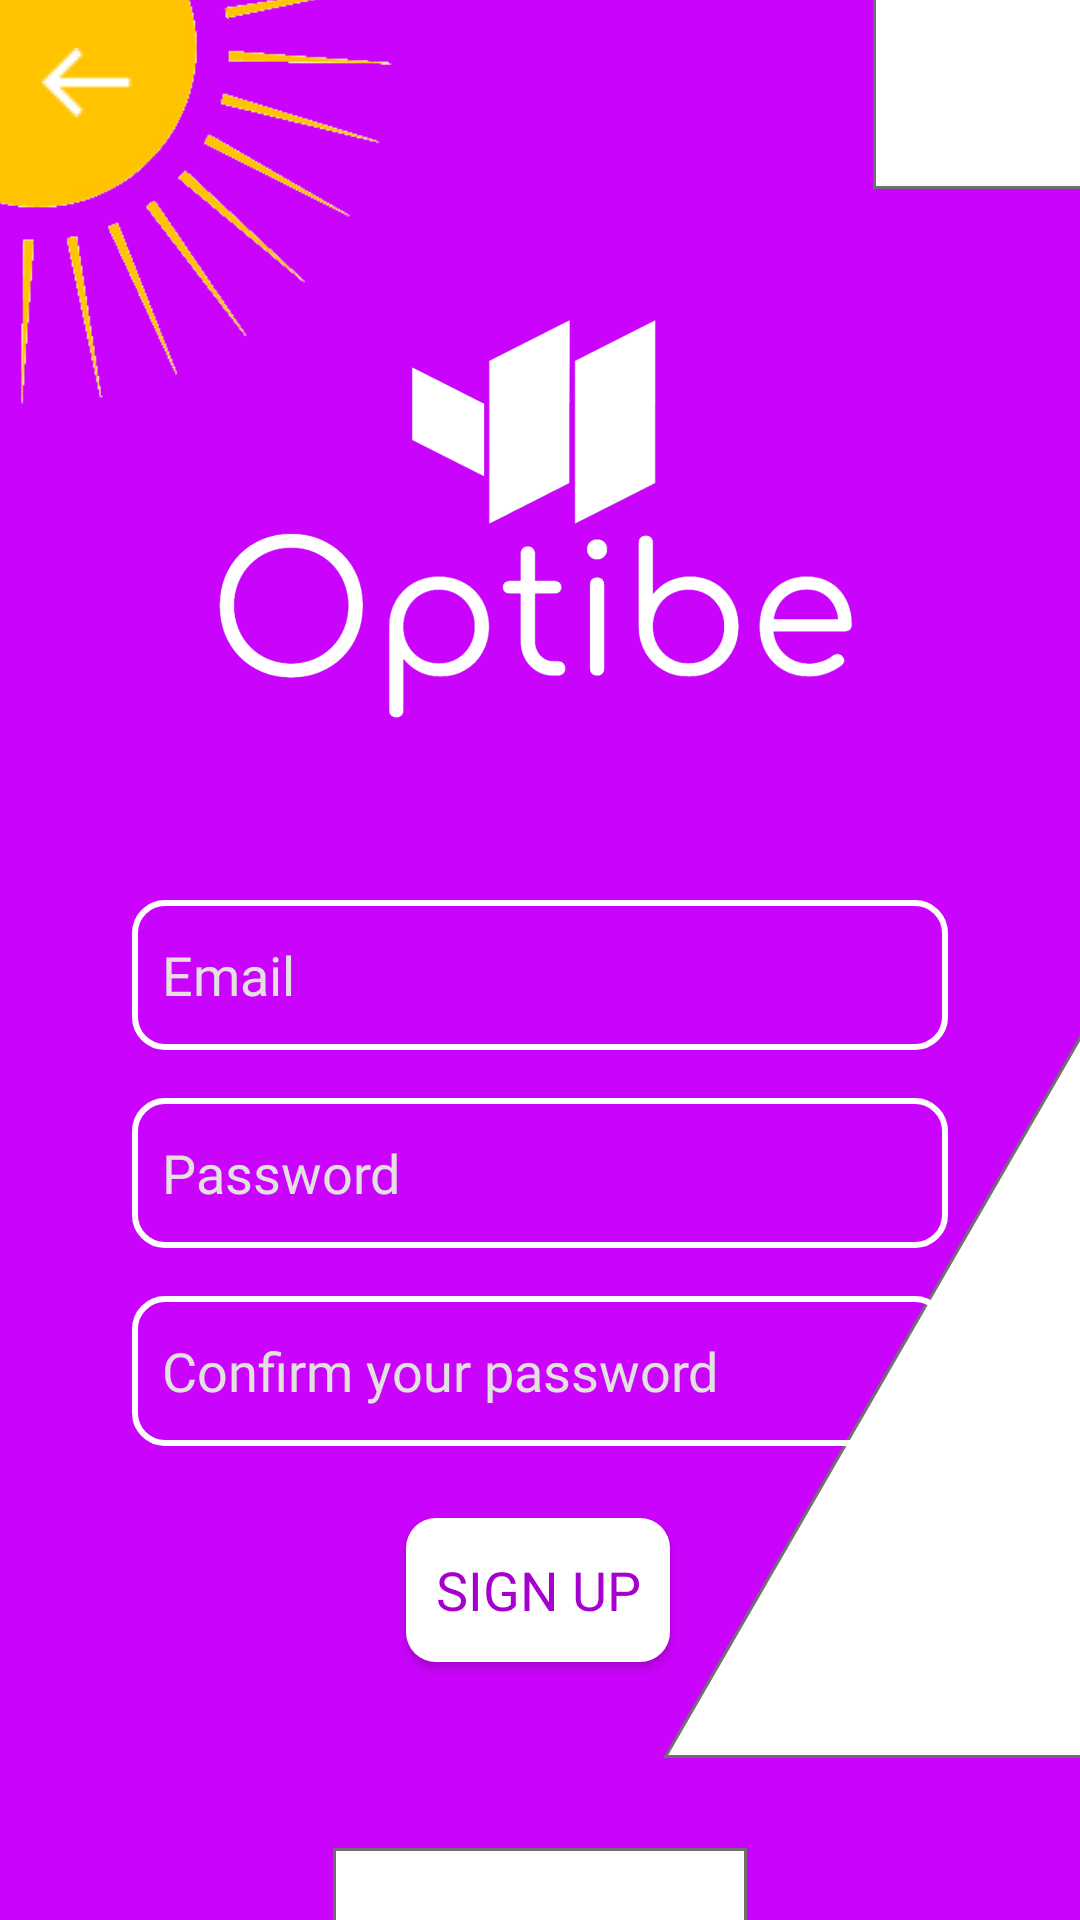

Screen size 1080x1920. Icon name, then its box in pixels as (x1, y1, x2, y2):
back arrow: (42, 48, 132, 117)
